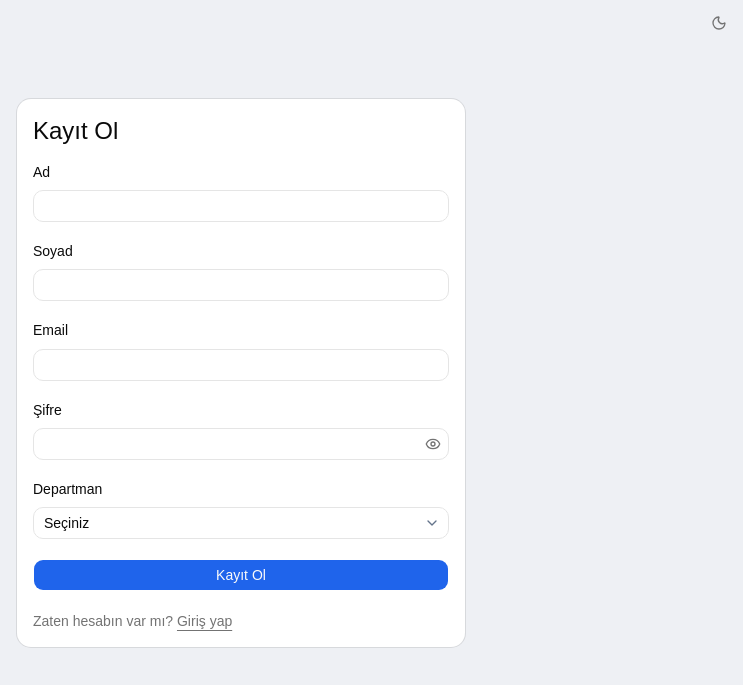
Register page › shows the server message for a non-429 API error and does not navigate away
The width and height of the screenshot is (743, 685).
Expected: the dropdown labelled "Departman" is shown, [33, 507, 449, 539]
In the field labelled "Ad": (241, 206) [33, 190, 449, 222], type "Taha"
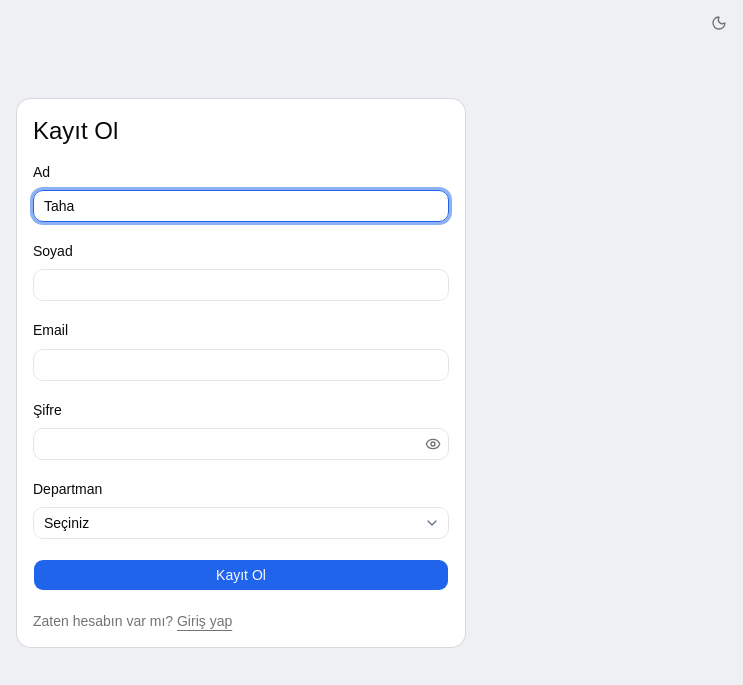
In the field labelled "Soyad": (241, 285) [33, 269, 449, 301], type "Bugra"
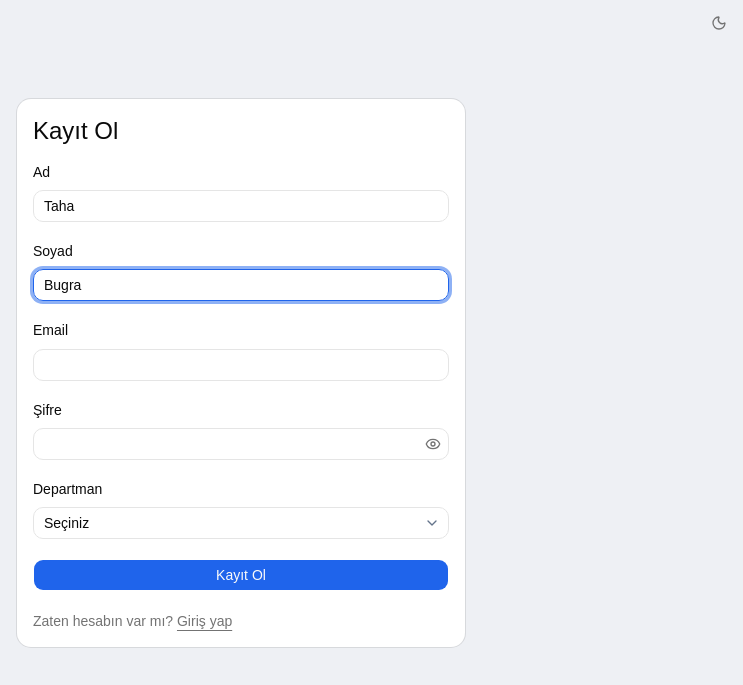
In the field labelled "Email": (241, 365) [33, 349, 449, 381], type "taha@gmail.com"
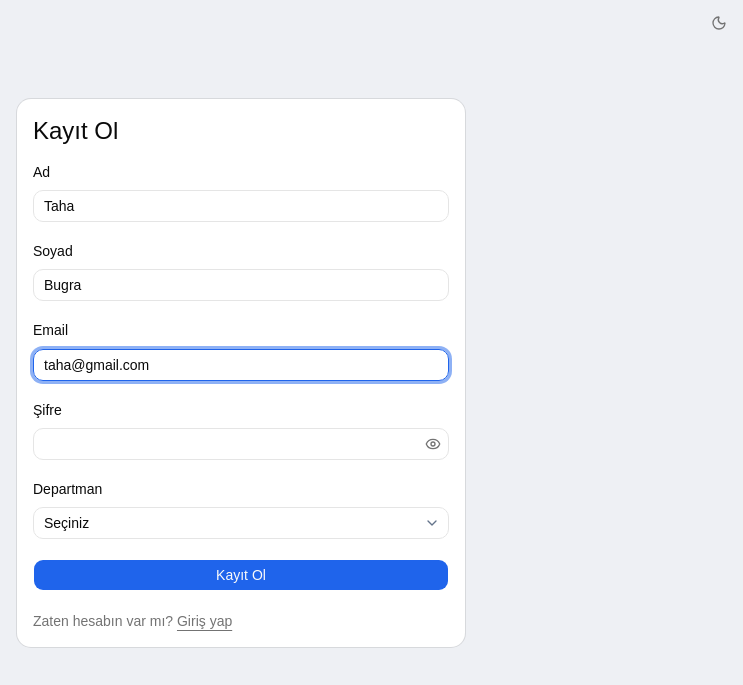
In the password field labelled "Şifre": (241, 444) [33, 428, 449, 460], type "sifre1234test"
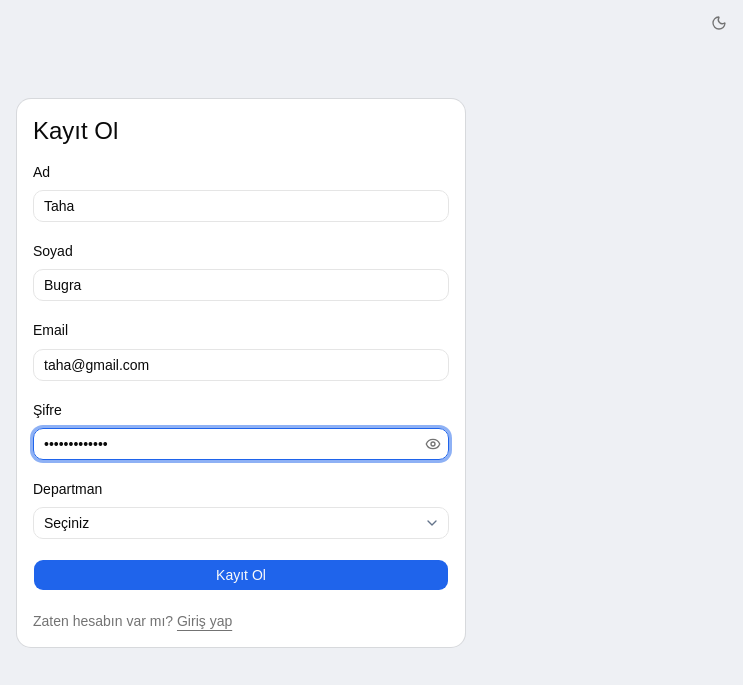
Select "IT" in the dropdown labelled "Departman": (241, 523) [33, 507, 449, 539]
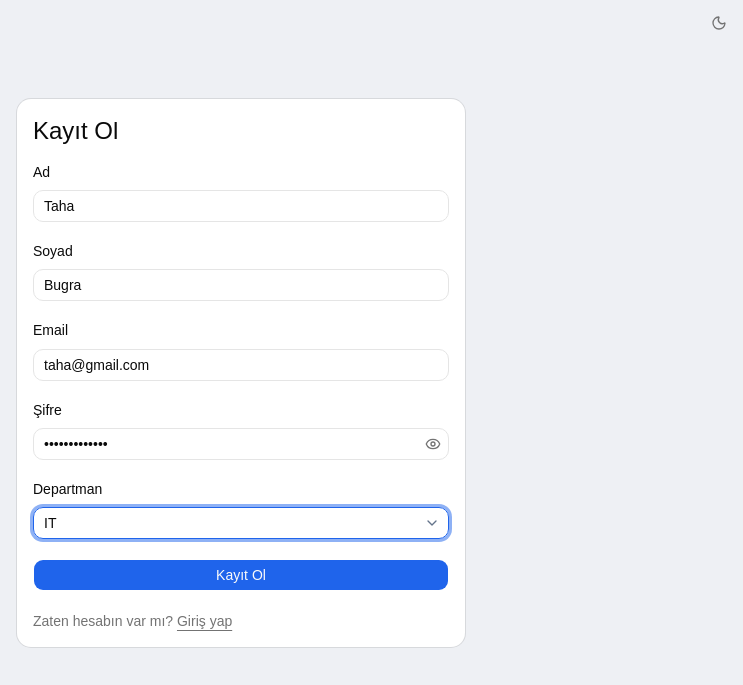
Click the button "Kayıt Ol": (241, 575) [33, 559, 449, 591]
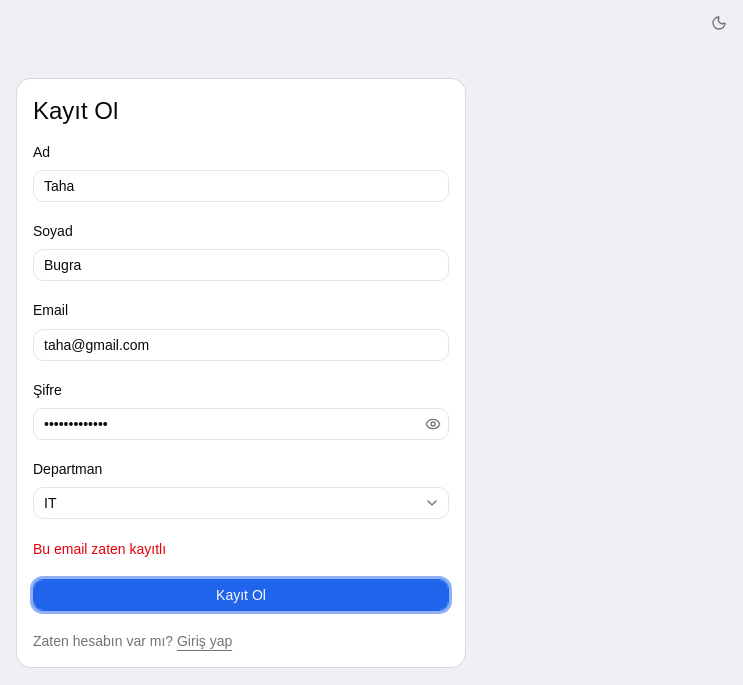
Expected: the text "Bu email zaten kayıtlı" is shown, [33, 541, 166, 557]
